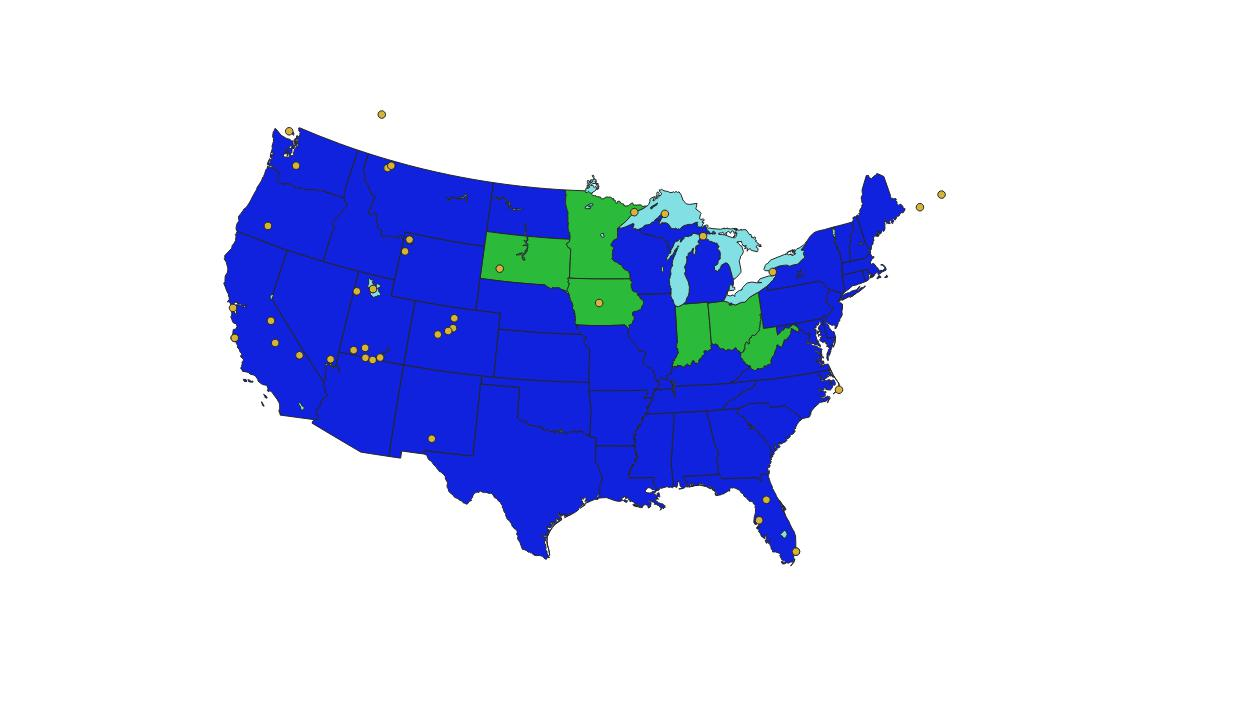

This screenshot's page, from the dashboard's own definition file:
{"tool":"tableau","page":{"name":"Map of Higher Ed Degrees","canvas":[1000,800],"ordinal":1},"visuals":[{"type":"worksheet","title":"Map","mark":"Automatic","box":[8,8,984,784]},{"type":"legend","title":"Map","param":"[federated.08yv7lo1pgmnho1asp2lq1pnhtfd].[sum:Total_Population_25_over_Bachelor'","box":[243,88,477,29]}]}

Visuals, with their boxes on the page's 1000x800 design canvas (x1, y1, x2, y2). These are canvas units, not pixel positions in the 1234x704 screenshot, which may show the page scaled, cropped or inside an application window:
"Map" worksheet: locate(8, 8, 992, 792)
"Map" legend: locate(243, 88, 720, 117)
